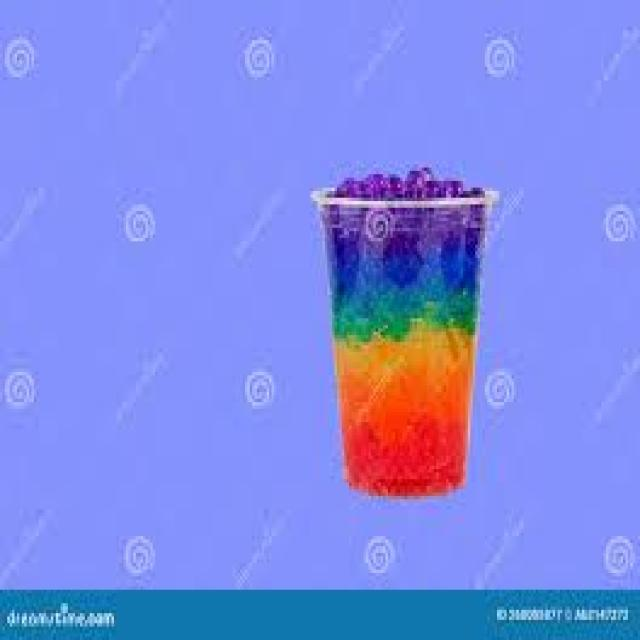bottle: (314, 168, 498, 497)
